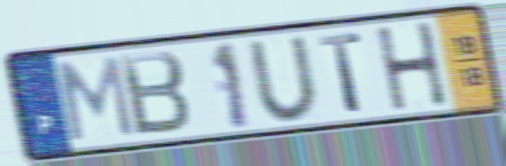1: (207, 38, 255, 130)
B: (116, 47, 193, 139)
H: (372, 18, 452, 115)
M: (54, 53, 138, 144)
T: (316, 29, 366, 115)
U: (243, 32, 323, 124)
